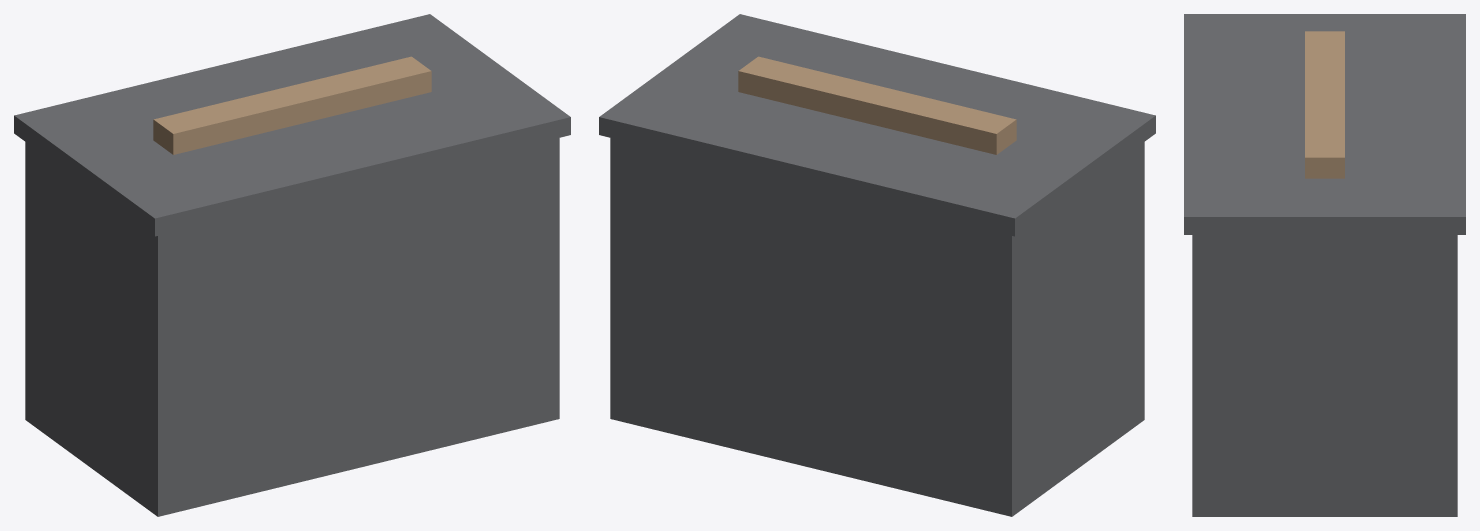
File: deploy_guntable.glb
3 views of the same model, side by side, from view 1: azimuth 30°, elevation 25°; view 2: azimuth 150°, elevation 25°; view 3: azimuth 270°, elevation 25° (orthographic).
Visible parts, largest first — view 1: deploy_guntable; view 2: deploy_guntable; view 3: deploy_guntable.
Part boxes in pixels (<box>): deploy_guntable: <box>14,14,570,516</box>; deploy_guntable: <box>599,14,1155,516</box>; deploy_guntable: <box>1184,14,1465,516</box>.
Size of the model in its own units: 1.45 by 1.08 by 0.85.
